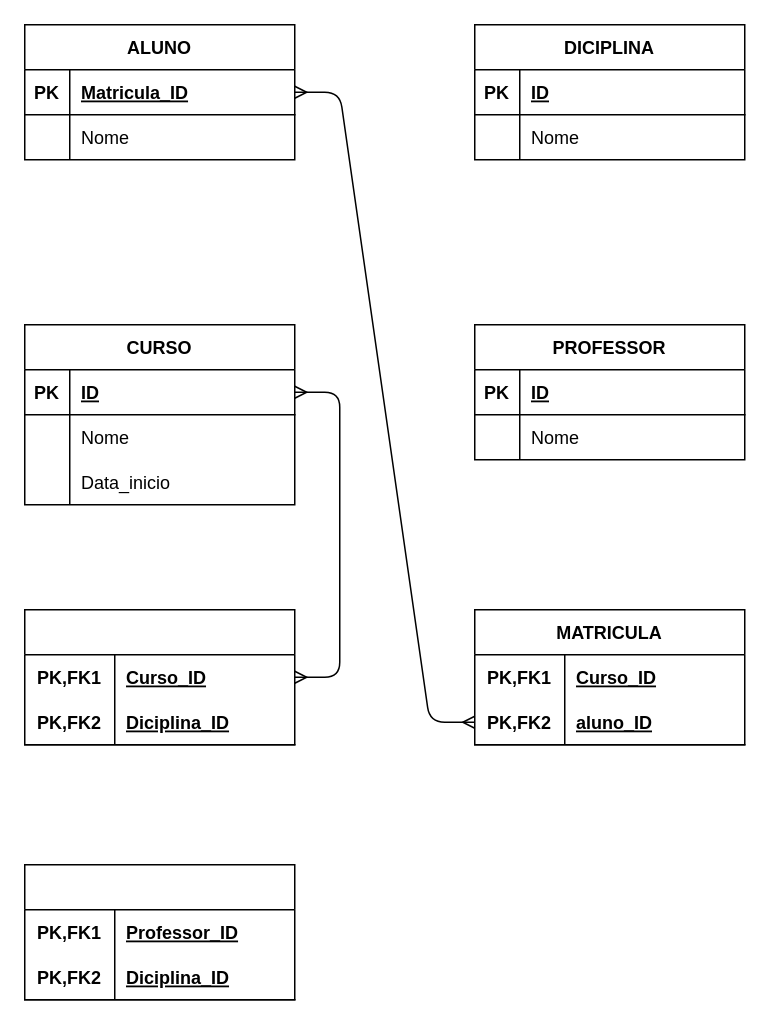
The diagram is 770 pixels wide and 1025 high, and some of its shapes have lost their labels. Each missing label, with the box of its shape:
CURSOS_DICIPLINA: (23, 608, 295, 745)
PROFESSOR_DISCIPLINA: (23, 863, 295, 1000)
